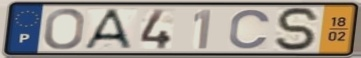1: (192, 8, 214, 51)
4: (139, 8, 175, 51)
A: (81, 7, 135, 50)
C: (226, 7, 273, 51)
O: (42, 7, 87, 51)
S: (274, 6, 323, 53)
